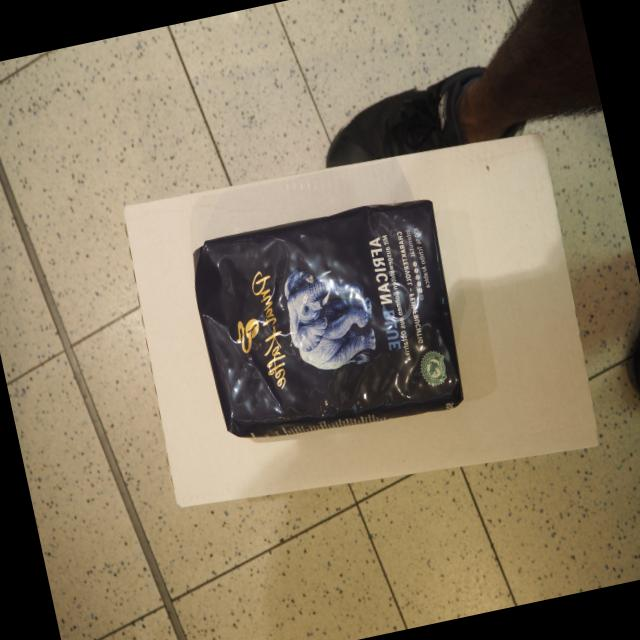AB Bohne: (180, 186, 477, 458)
